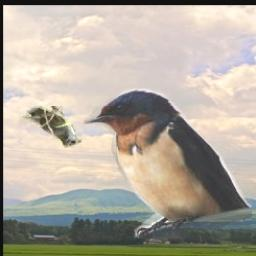Cuckoo: (19, 107, 82, 149)
Swallow: (85, 88, 253, 239)
